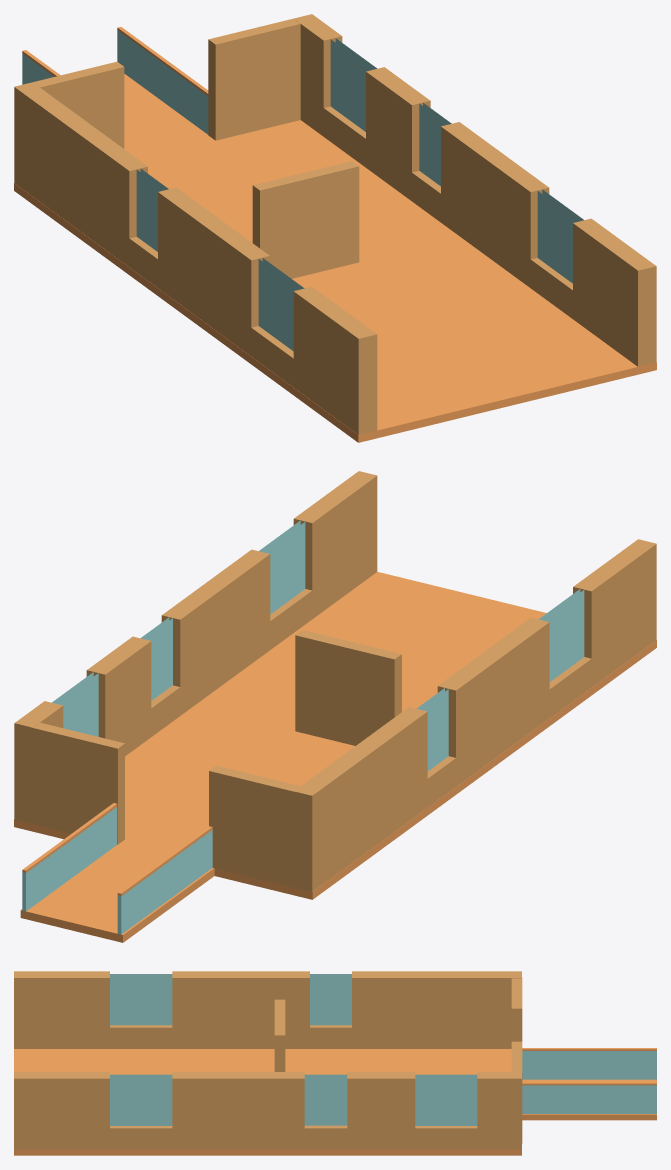
The model's file is env.fbx.
3 renders of one model, top to bottom at view 1: azimuth 30°, elevation 25°; view 2: azimuth 150°, elevation 25°; view 3: azimuth 270°, elevation 25°, orthographic. The views are drawn at different scales.
Parts seen in each view (by area): view 1: Cube, Cube.002, Cube.001, Cube.005, Cube.003, Cube.004, Cube.007, Cube.051, Cube.050, Cube.046, Cube.006; view 2: Cube.005, Cube.003, Cube, Cube.001, Cube.002, Cube.004, Cube.007, Cube.050, Cube.051, Cube.006, Cube.047, Cube.046 (+1 smaller); view 3: Cube.001, Cube.002, Cube.004, Cube.005, Cube, Cube.003, Cube.046, Cube.047, Cube.006, Cube.007, Cube.050, Cube.048 (+2 smaller).
Boxes of the visible parts, x1,y1,x2,y2 form: Cube: [186, 241, 656, 442]; Cube.002: [186, 208, 377, 434]; Cube.001: [466, 140, 656, 366]; Cube.005: [14, 82, 204, 308]; Cube.003: [14, 120, 465, 316]; Cube.004: [294, 14, 483, 240]; Cube.007: [252, 161, 359, 278]; Cube.051: [208, 18, 300, 140]; Cube.050: [33, 61, 124, 148]; Cube.046: [117, 30, 208, 134]; Cube.006: [124, 74, 208, 154]; Cube.005: [294, 665, 484, 891]; Cube.003: [14, 698, 484, 899]; Cube: [205, 572, 656, 773]; Cube.001: [187, 471, 377, 697]; Cube.002: [466, 539, 656, 765]; Cube.004: [14, 597, 205, 823]; Cube.007: [295, 630, 401, 745]; Cube.050: [209, 765, 300, 887]; Cube.051: [30, 722, 124, 844]; Cube.006: [20, 844, 214, 942]; Cube.047: [117, 829, 212, 934]; Cube.046: [22, 807, 117, 911]; Cube.001: [14, 1072, 268, 1149]; Cube.002: [14, 971, 268, 1048]; Cube.004: [268, 1072, 521, 1149]; Cube.005: [268, 971, 521, 1048]; Cube: [14, 1049, 268, 1155]; Cube.003: [268, 1049, 521, 1155]; Cube.046: [522, 1085, 656, 1113]; Cube.047: [522, 1051, 656, 1079]; Cube.006: [522, 1079, 656, 1120]; Cube.007: [274, 999, 285, 1071]; Cube.050: [511, 977, 522, 1041]; Cube.048: [522, 1082, 656, 1085].
Bounding box in the file's own units: 4000 × 1332 × 10117.
